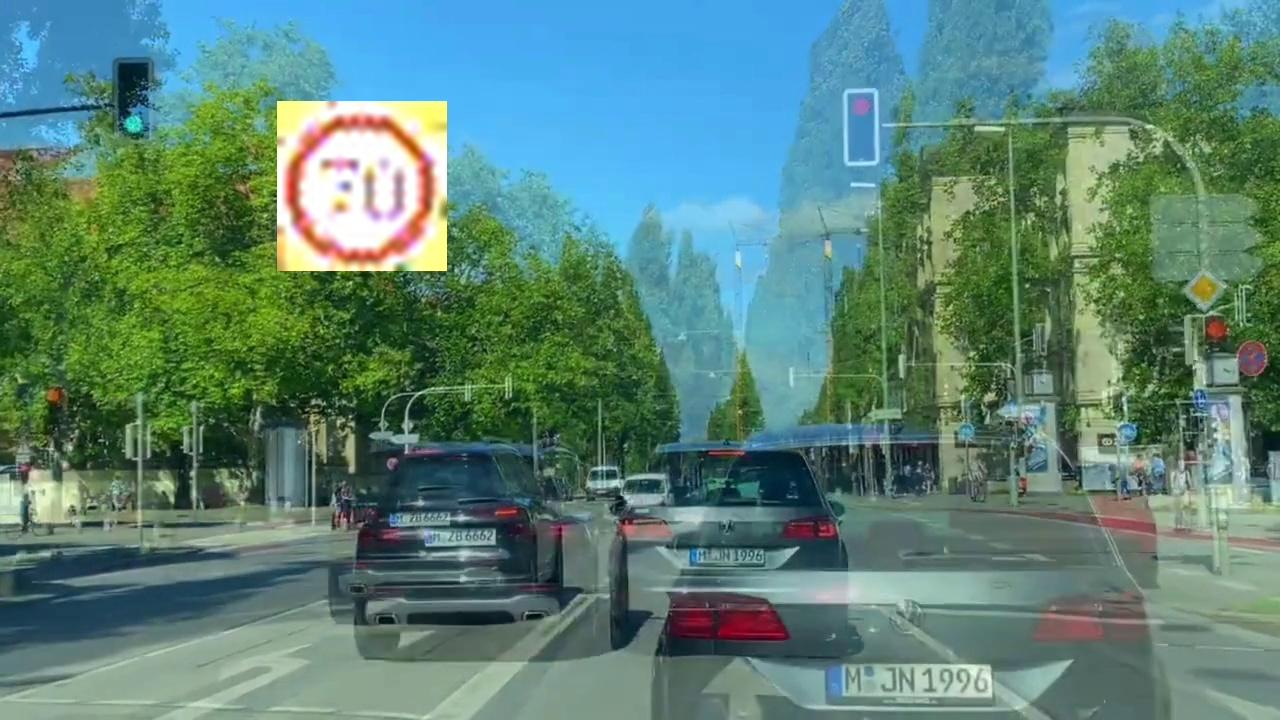Speed 70: (277, 101, 447, 271)
